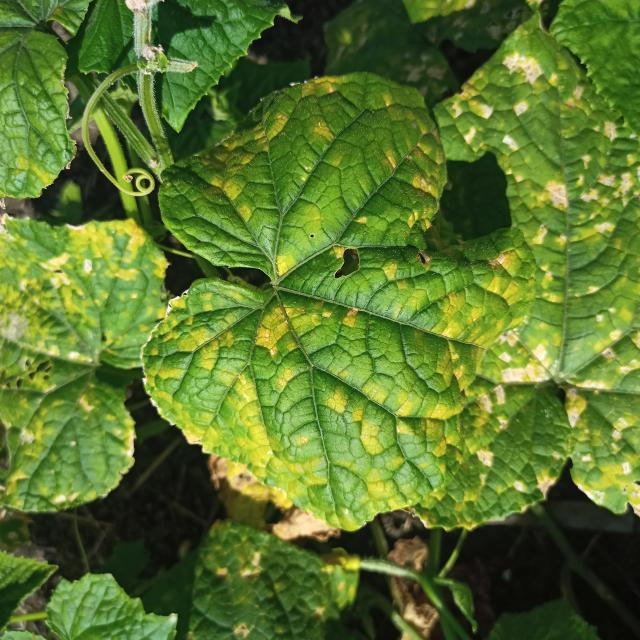disease_cucumber: (155, 76, 533, 509), (437, 53, 640, 523), (0, 214, 164, 462)
